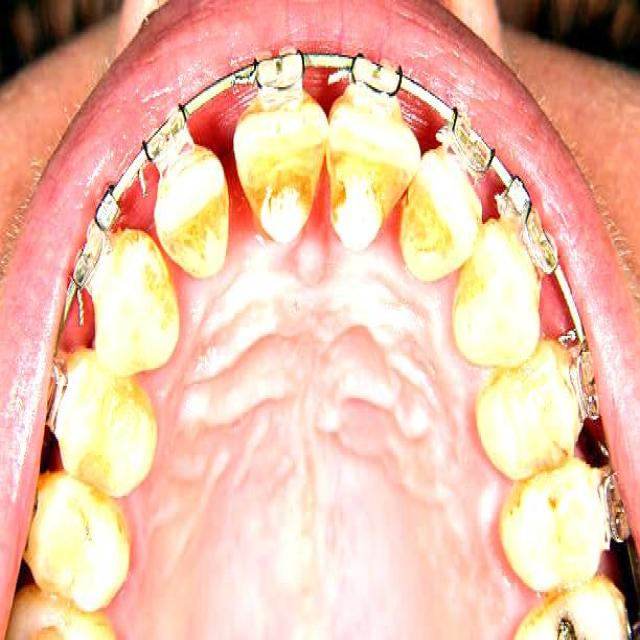caries: (244, 143, 316, 246), (326, 150, 392, 246), (545, 598, 590, 640)
